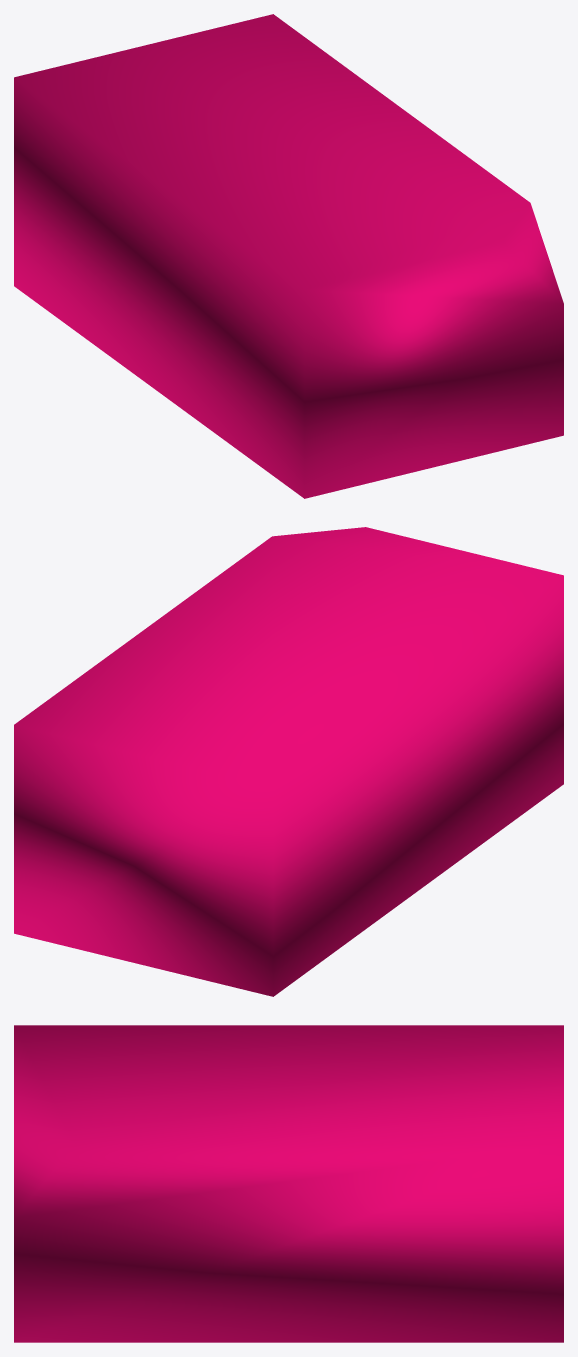
File: Brick_02.fbx
3 renders of one model, top to bottom at view 1: azimuth 30°, elevation 25°; view 2: azimuth 150°, elevation 25°; view 3: azimuth 270°, elevation 25°, orthographic. The views are drawn at different scales.
Visible parts, largest first — view 1: Brick_02; view 2: Brick_02; view 3: Brick_02.
Boxes of the visible parts, x1,y1,x2,y2 form: Brick_02: [14, 14, 563, 498]; Brick_02: [14, 527, 563, 996]; Brick_02: [14, 1025, 563, 1342].
Size of the model in its own units: 9.61 by 7.39 by 18.65.
